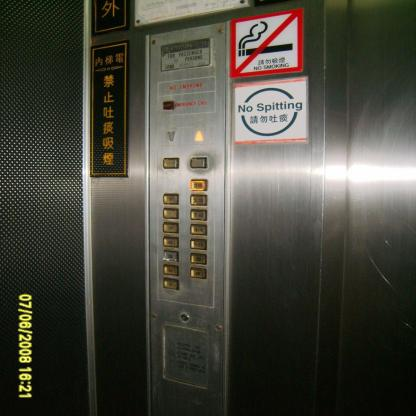1: (162, 277, 180, 290)
10: (189, 238, 208, 250)
11: (190, 224, 208, 235)
12: (189, 209, 208, 221)
13: (190, 194, 208, 206)
14: (189, 179, 208, 191)
2: (163, 264, 178, 276)
3: (163, 250, 179, 261)
4: (162, 236, 179, 247)
5: (162, 222, 179, 234)
6: (162, 208, 179, 219)
7: (162, 193, 179, 205)
8: (190, 266, 207, 280)
9: (189, 253, 207, 264)
empty: (189, 157, 208, 168), (162, 157, 179, 169), (162, 101, 174, 110)
keyhole: (180, 314, 189, 321)
